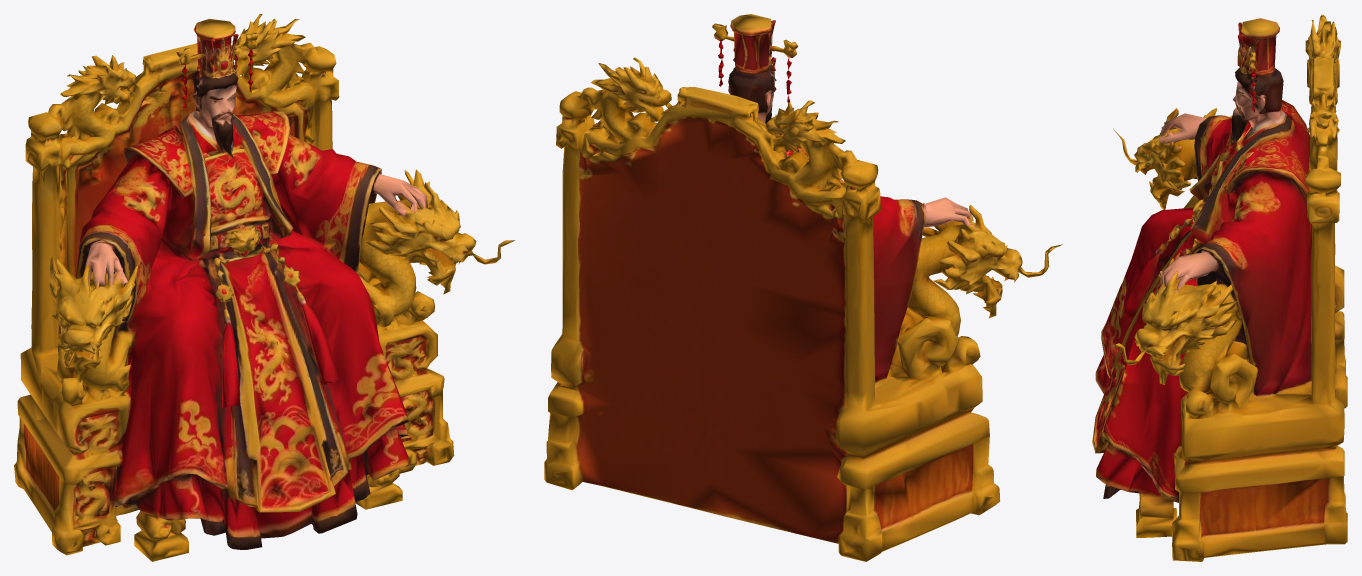
The model's file is tuong_red.glb.
3 renders of one model, left to right at view 1: azimuth 30°, elevation 25°; view 2: azimuth 150°, elevation 25°; view 3: azimuth 270°, elevation 25°, orthographic. The views are drawn at different scales.
Parts seen in each view (by area): view 1: XiangqiPiece; view 2: XiangqiPiece; view 3: XiangqiPiece.
Part boxes in pixels (left/top/right/bottom): XiangqiPiece: left=14, top=14, right=514, bottom=561; XiangqiPiece: left=544, top=14, right=1062, bottom=561; XiangqiPiece: left=1092, top=14, right=1347, bottom=561.
Size of the model in its own units: 1.02 by 0.9875 by 0.5063.
Materials: 1 (1 with a texture image).
